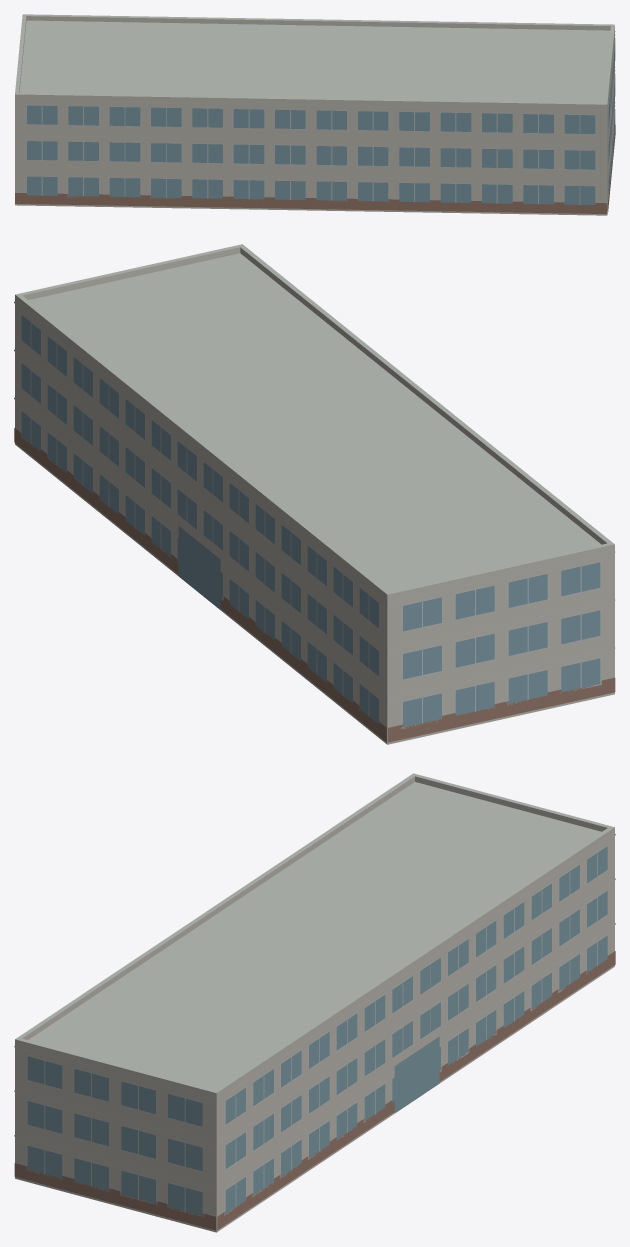
File: public-12f0e7cb-e3e8-49d1-842c-b710c1f994c6.glb
3 renders of one model, top to bottom at view 1: azimuth 30°, elevation 25°; view 2: azimuth 150°, elevation 25°; view 3: azimuth 270°, elevation 25°, orthographic. The views are drawn at different scales.
Visible parts, largest first — view 1: public-12f0e7cb-e3e8-49d1-842c-b710c1f994c6; view 2: public-12f0e7cb-e3e8-49d1-842c-b710c1f994c6; view 3: public-12f0e7cb-e3e8-49d1-842c-b710c1f994c6.
Part boxes in pixels (x1,y1,x2,y2): public-12f0e7cb-e3e8-49d1-842c-b710c1f994c6: (15, 14, 615, 215); public-12f0e7cb-e3e8-49d1-842c-b710c1f994c6: (14, 244, 615, 744); public-12f0e7cb-e3e8-49d1-842c-b710c1f994c6: (14, 773, 615, 1232).
Bounding box in the file's own units: 45.14 × 9.15 × 35.81.
